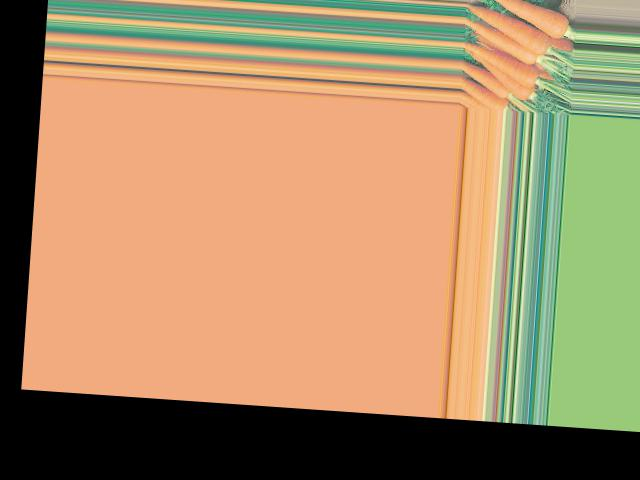carrot: (462, 65, 517, 102)
